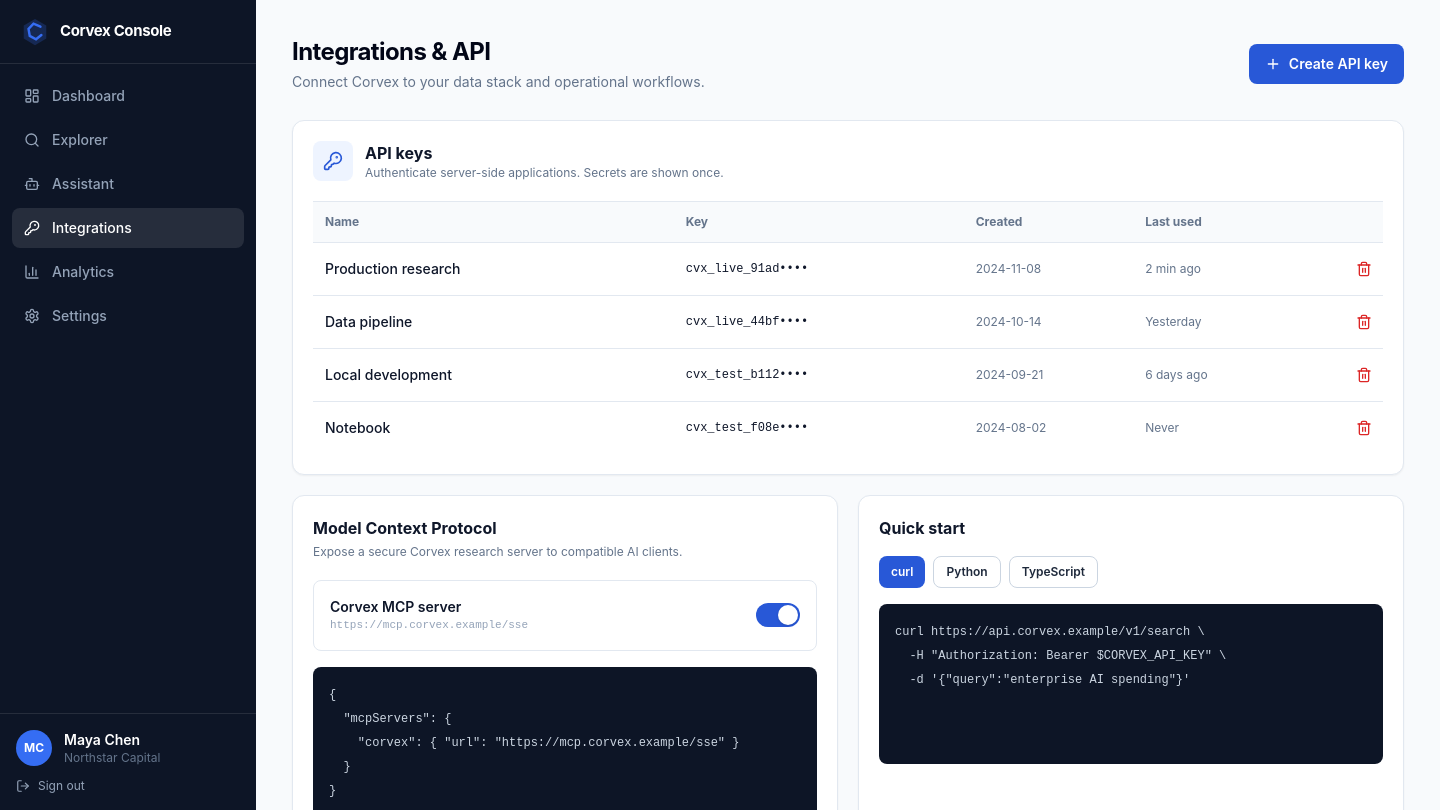
Scenario: console workflows › creates a reveal-once key then optimistically revokes it
Expected: the text "Production research" is shown, x1=313 y1=242 x2=685 y2=296
Click the button with test id "create-key-open" at x=1326, y=64, box x1=1249 y1=44 x2=1404 y2=84
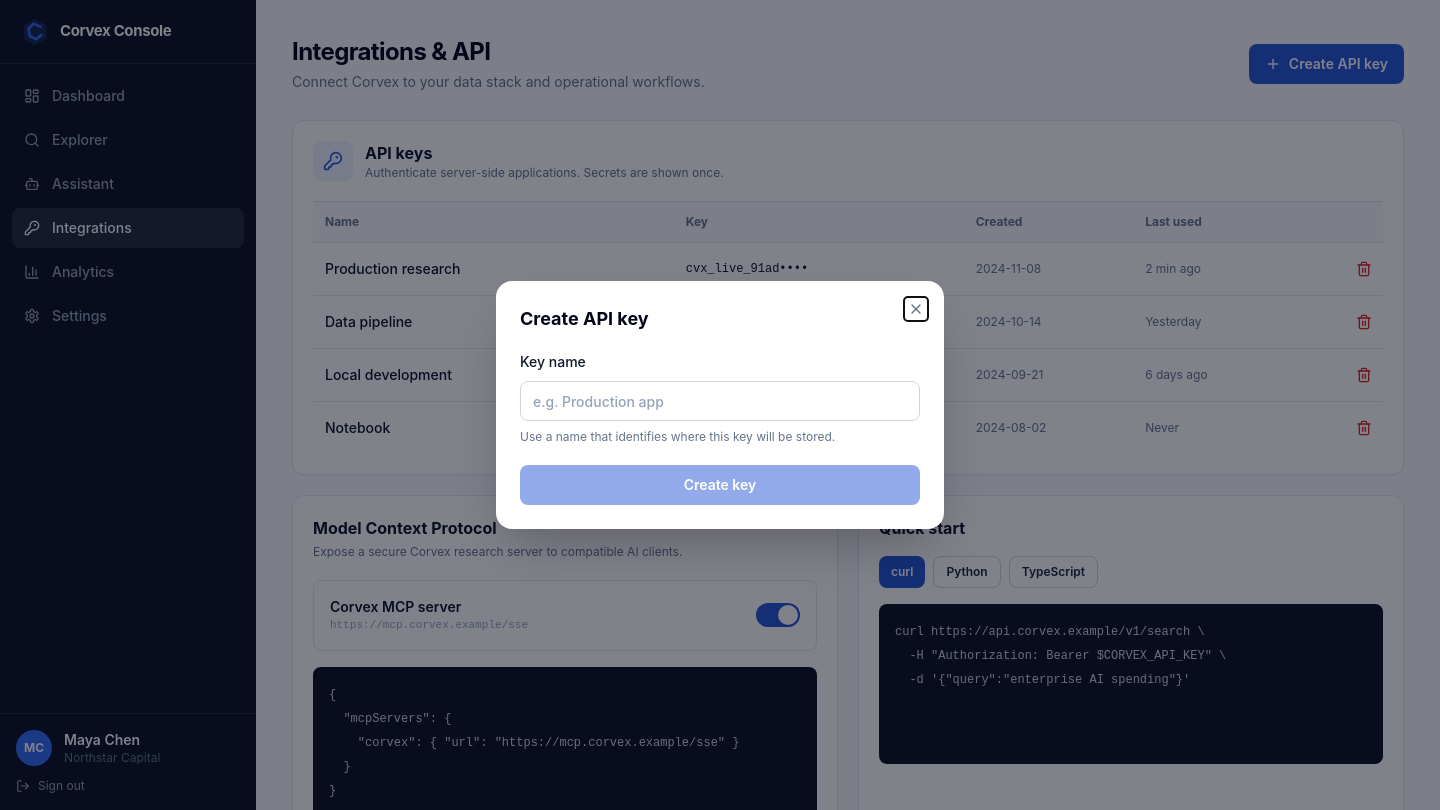
Type "Test automation" into the field with test id "key-name" at x=720, y=401, box x1=520 y1=381 x2=920 y2=421
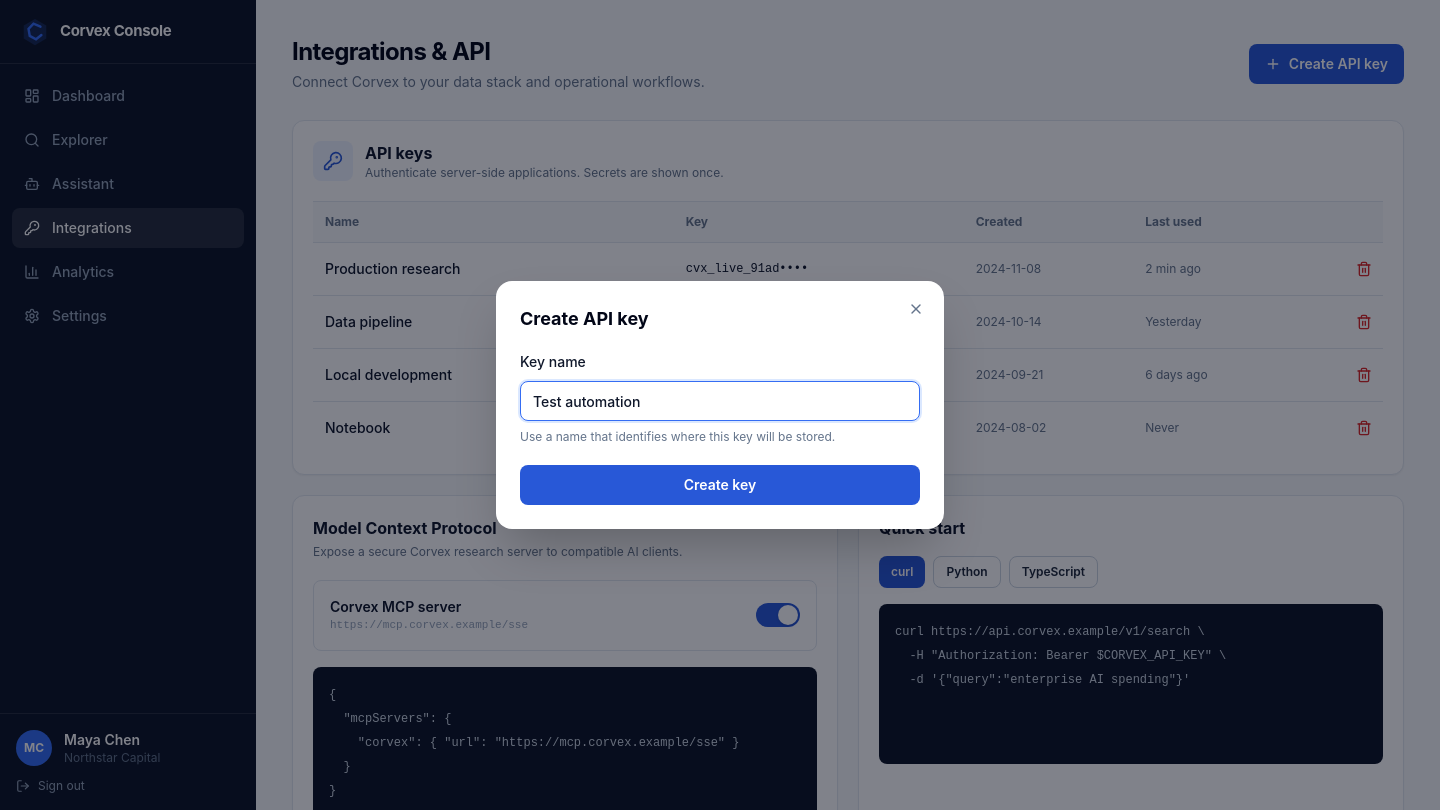
Click the button with test id "create-key-submit" at x=720, y=485, box x1=520 y1=465 x2=920 y2=505
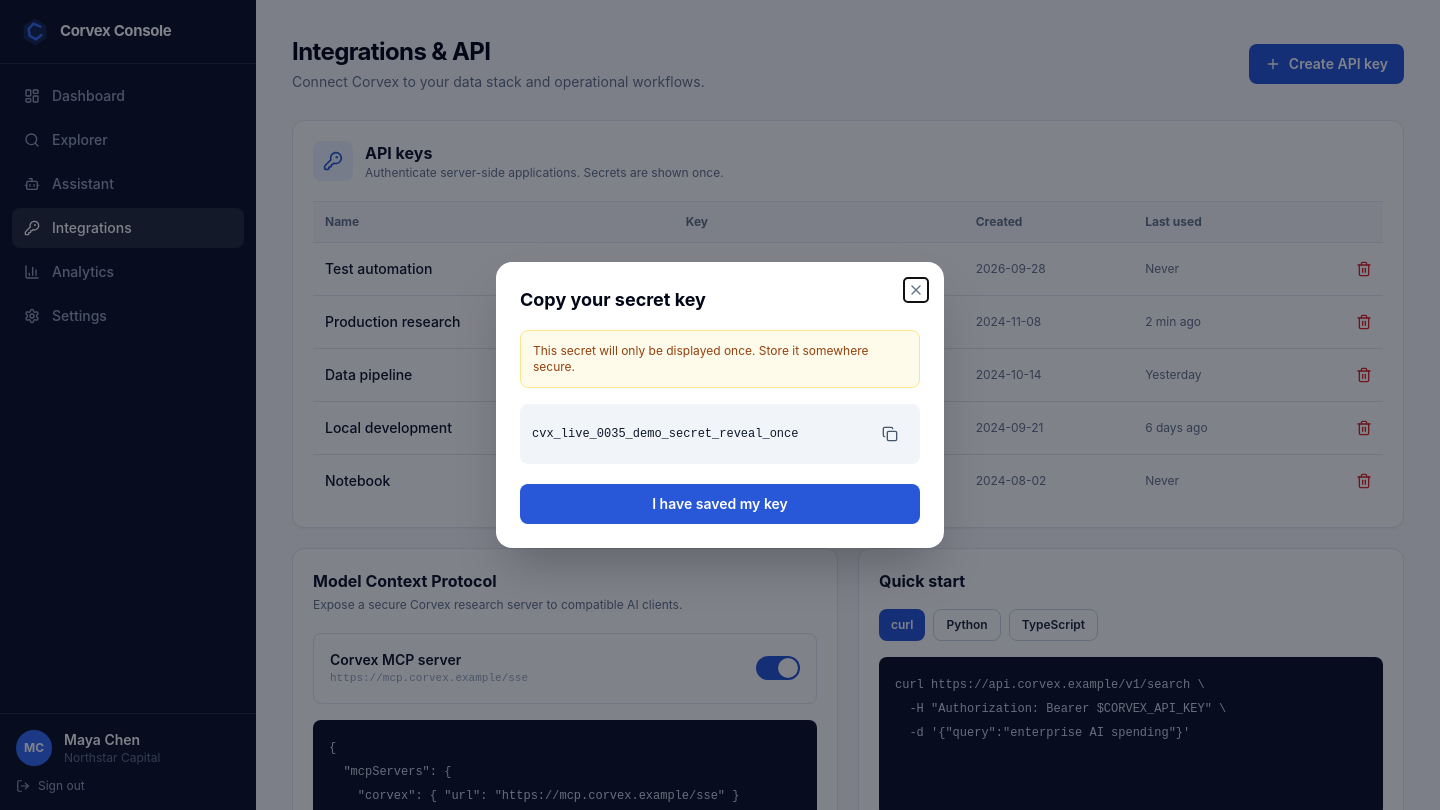
Result: the text with test id "key-secret" shows "demo_secret_reveal_once" at x1=532 y1=427 x2=798 y2=441
Click the button "I have saved my key" at x=720, y=504, box x1=520 y1=484 x2=920 y2=524
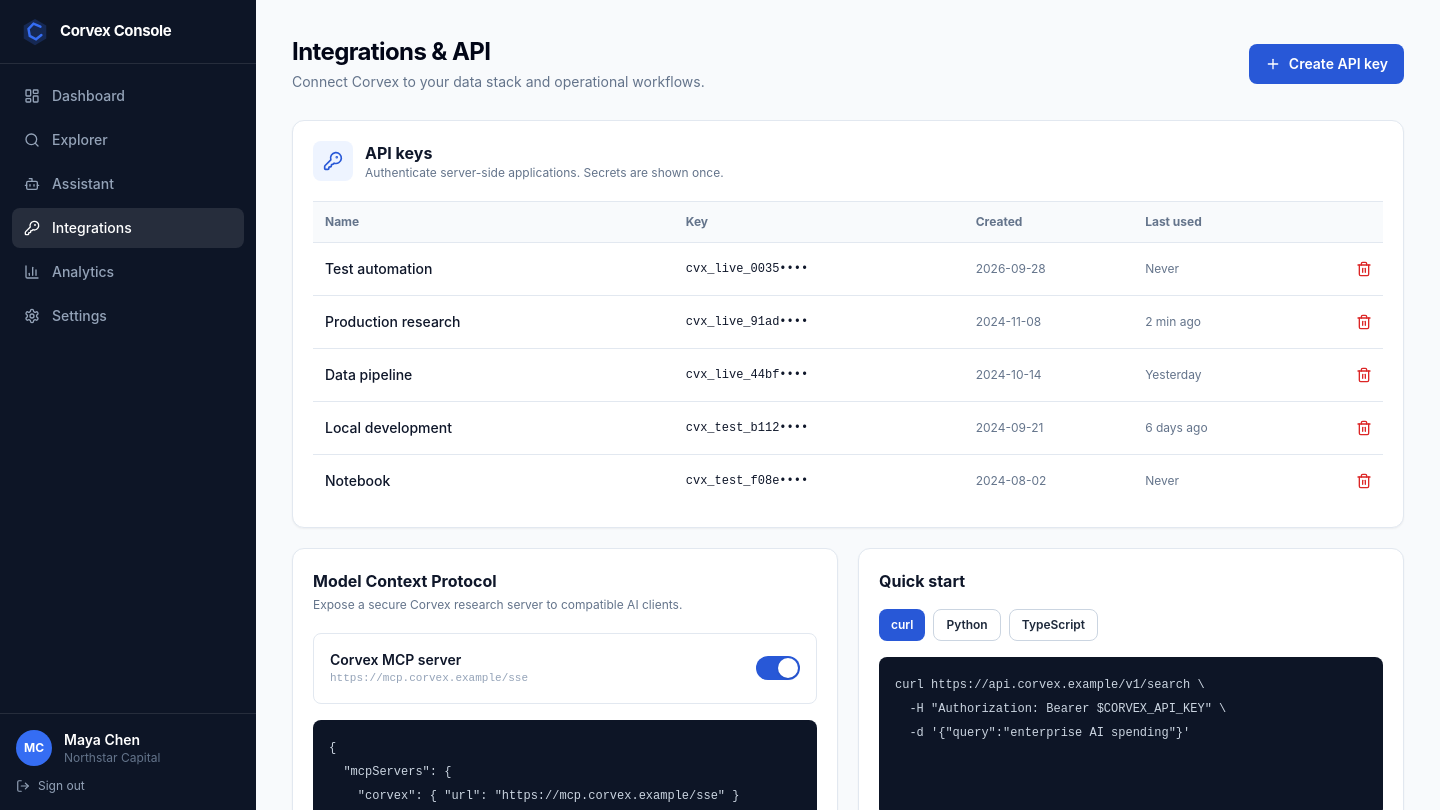
Result: the text "Test automation" is shown at x1=313 y1=242 x2=685 y2=296
Click the button named "Revoke Test automation" at x=1364, y=269, box x1=1346 y1=251 x2=1382 y2=287
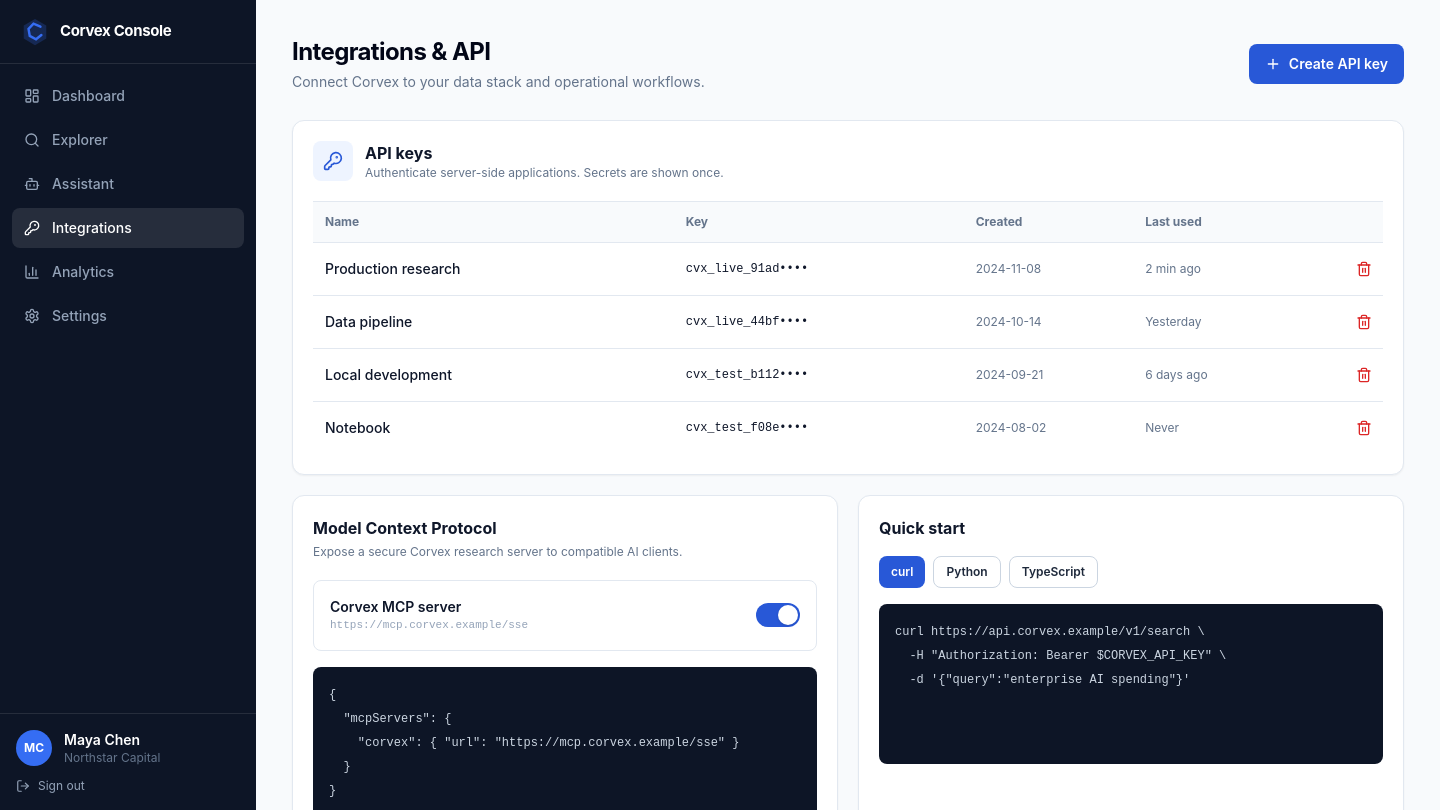
Result: the text "Test automation" is gone
